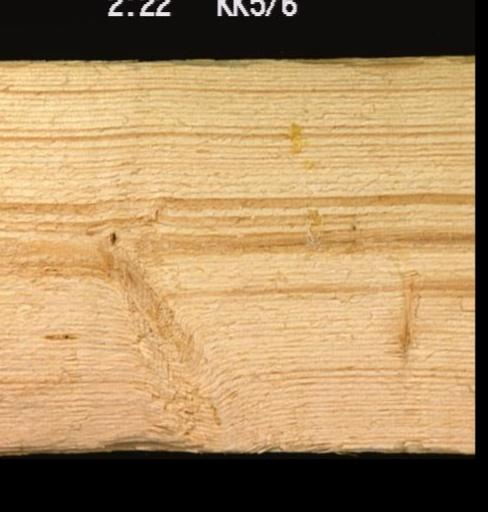wave: (35, 428, 440, 456)
